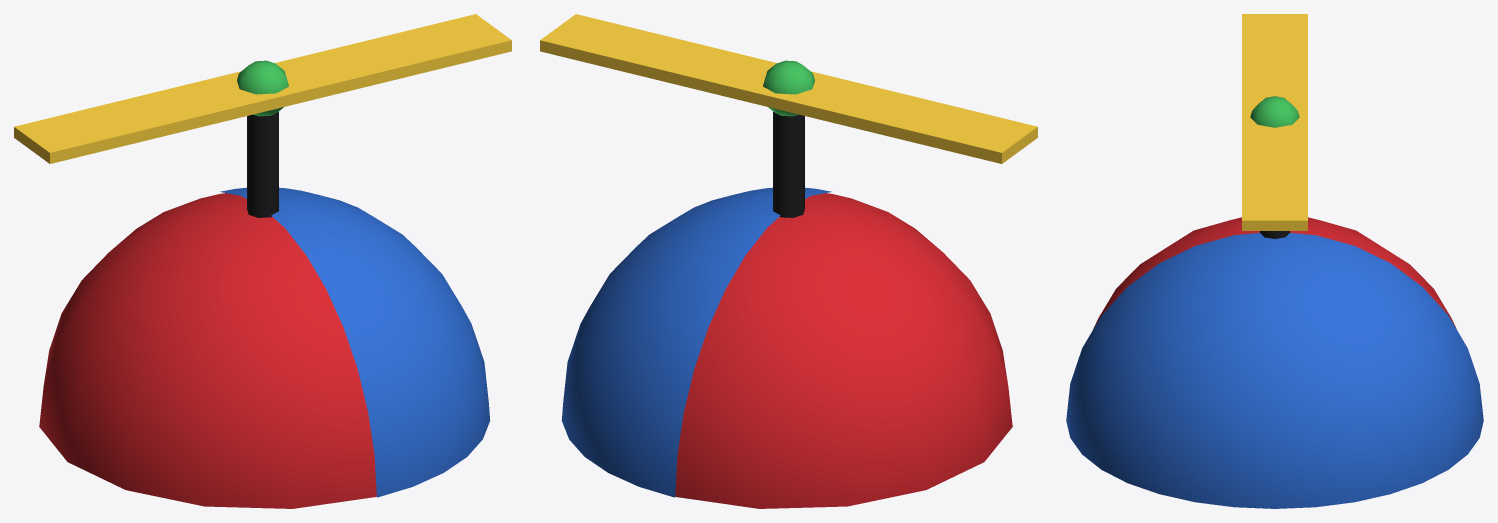
File: Hat_propeller.glb
The picture shows the model from 3 angles, left to right: view 1: azimuth 30°, elevation 25°; view 2: azimuth 150°, elevation 25°; view 3: azimuth 270°, elevation 25°; orthographic projection. The views are drawn at different scales.
Parts seen in each view (by area): view 1: Hat_Prop_CapA_0, Hat_Prop_CapB_1, Hat_Prop_BladeA_3, Hat_Prop_Stem_2, Hat_Prop_Hub_4; view 2: Hat_Prop_CapA_0, Hat_Prop_CapB_1, Hat_Prop_BladeA_3, Hat_Prop_Stem_2, Hat_Prop_Hub_4; view 3: Hat_Prop_CapB_1, Hat_Prop_BladeA_3, Hat_Prop_CapA_0, Hat_Prop_Hub_4.
Part boxes in pixels (box(x1,y1,x2,y2)): Hat_Prop_CapA_0: box(39, 193, 376, 508); Hat_Prop_CapB_1: box(220, 187, 490, 497); Hat_Prop_BladeA_3: box(14, 14, 511, 163); Hat_Prop_Stem_2: box(247, 111, 278, 217); Hat_Prop_Hub_4: box(237, 60, 288, 116); Hat_Prop_CapA_0: box(675, 193, 1012, 508); Hat_Prop_CapB_1: box(561, 187, 831, 497); Hat_Prop_BladeA_3: box(540, 14, 1037, 163); Hat_Prop_Stem_2: box(773, 111, 804, 217); Hat_Prop_Hub_4: box(763, 60, 814, 116); Hat_Prop_CapB_1: box(1066, 233, 1483, 508); Hat_Prop_BladeA_3: box(1242, 14, 1307, 230); Hat_Prop_CapA_0: box(1093, 217, 1456, 328); Hat_Prop_Hub_4: box(1250, 96, 1299, 127).
Size of the model in its own units: 0.39 by 0.2835 by 0.333.
